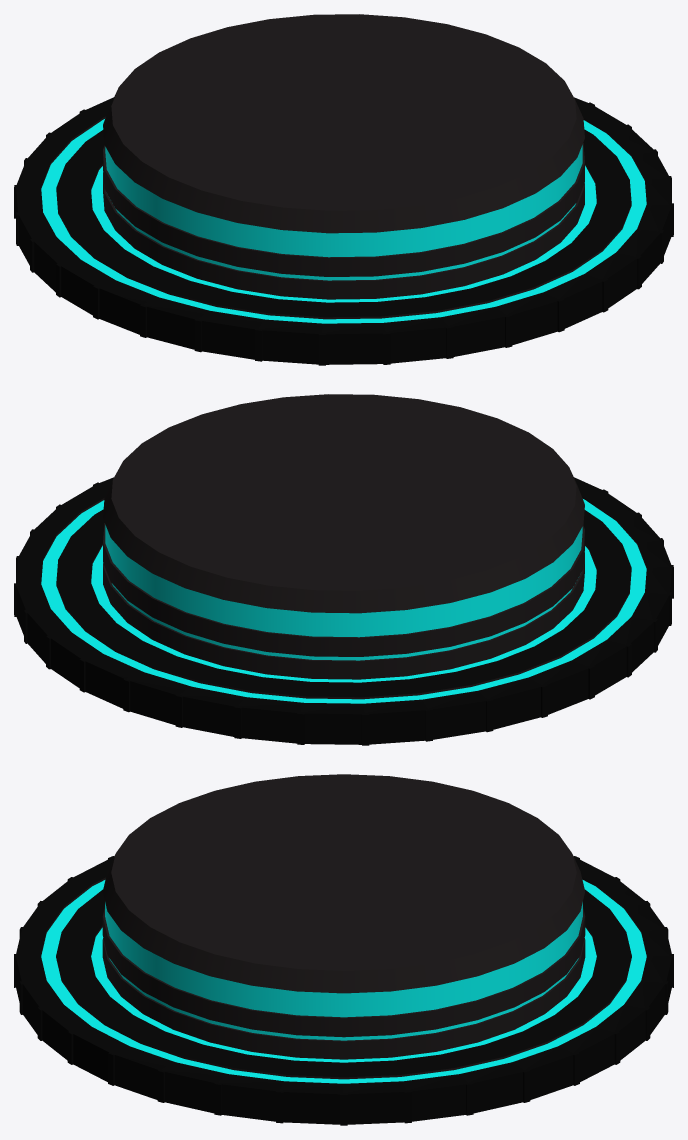
Rendered from MechStand.fbx.
The picture shows the model from 3 angles, top to bottom: view 1: azimuth 30°, elevation 25°; view 2: azimuth 150°, elevation 25°; view 3: azimuth 270°, elevation 25°; orthographic projection.
Visible parts, largest first — view 1: Base; view 2: Base; view 3: Base.
Boxes of the visible parts, <box> form: Base: <box>14,14,673,365</box>; Base: <box>14,394,673,745</box>; Base: <box>14,774,673,1125</box>.
Size of the model in its own units: 294 by 55.91 by 294.
